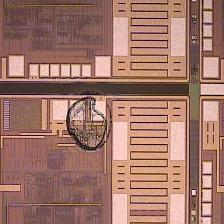COATING BAD: (58, 86, 126, 154)
